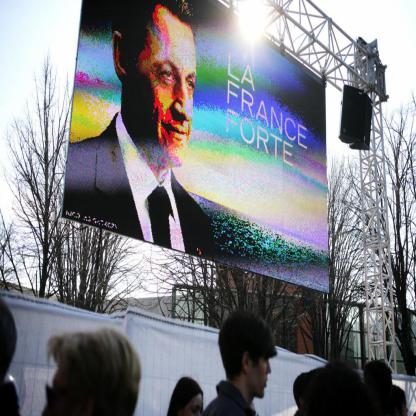face: (129, 10, 197, 166), (250, 315, 274, 401)
